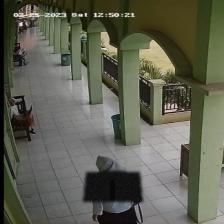Cadar_Niqab: (82, 156, 142, 201)
